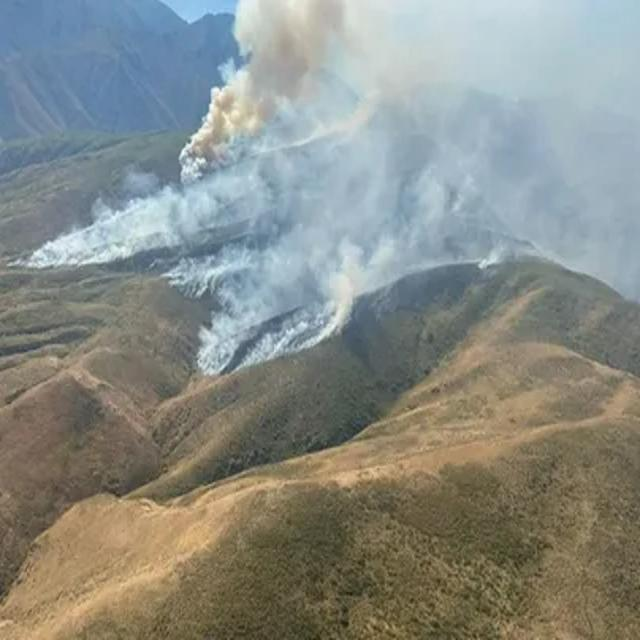Smoke: (31, 0, 640, 372)
